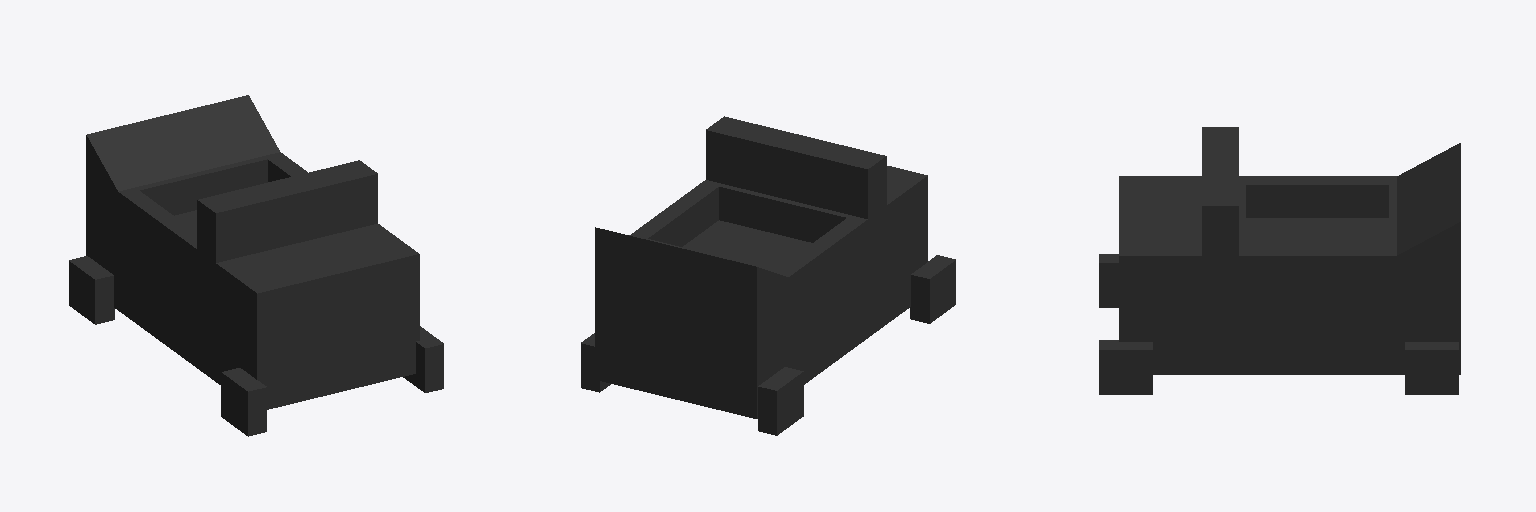
Rendered from Decap.obj.
3 renders of one model, left to right at view 1: azimuth 30°, elevation 25°; view 2: azimuth 150°, elevation 25°; view 3: azimuth 270°, elevation 25°, orthographic.
Visible parts, largest first — view 1: Decap; view 2: Decap; view 3: Decap.
Part boxes in pixels (left/top/right/bottom): Decap: left=69, top=95, right=443, bottom=436; Decap: left=581, top=116, right=955, bottom=435; Decap: left=1099, top=127, right=1460, bottom=394.
Bounding box in the file's own units: 2.59 × 2.28 × 4.12.